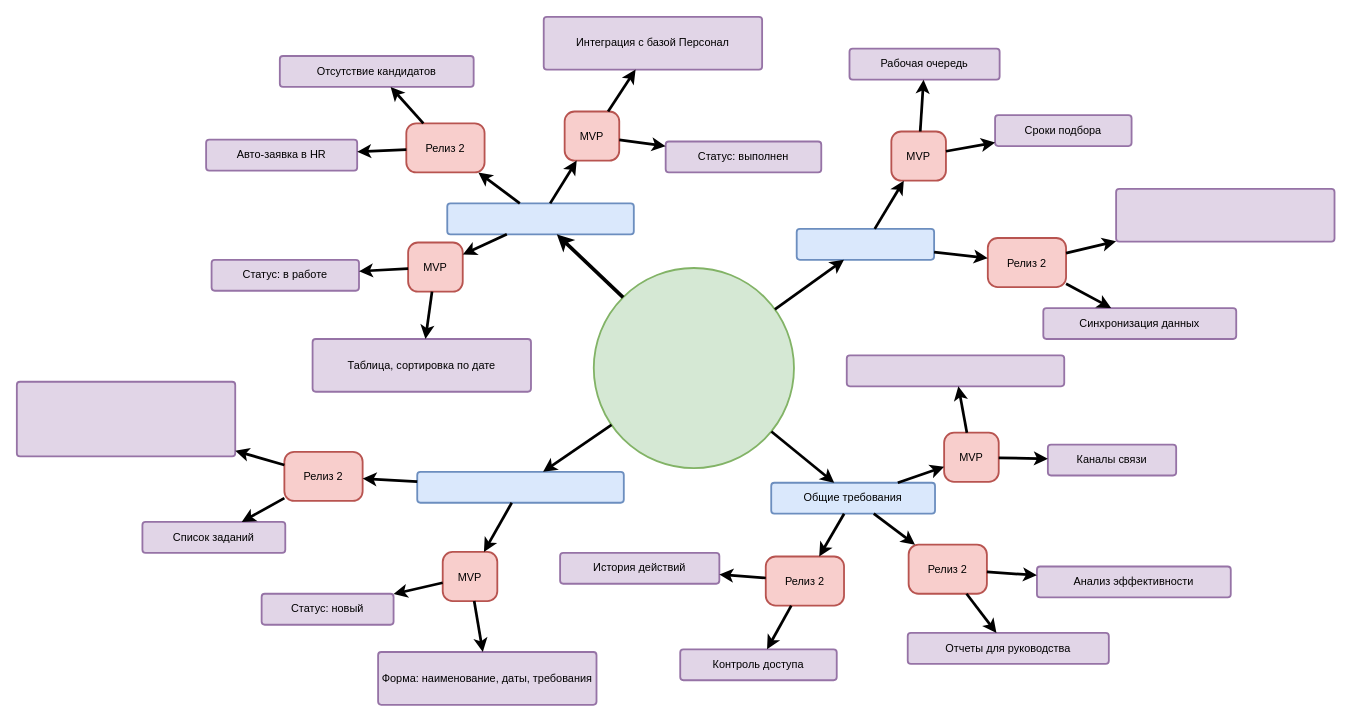
Image size: 1350x721. Some labels were removed from this diagram. The centre of each missing label's shape, as x and y in pixels:
Редактирование профилей: point 1225,214
Режим реального времени: point 955,370
Система управления сервисными работами: point 693,368
Специалист HR: point 865,244
Статусы: новый, в работе, выполнен, закрыт, отменён: point 125,418
Управляющий магазином: point 520,486
Управляющий офисом: point 540,218
